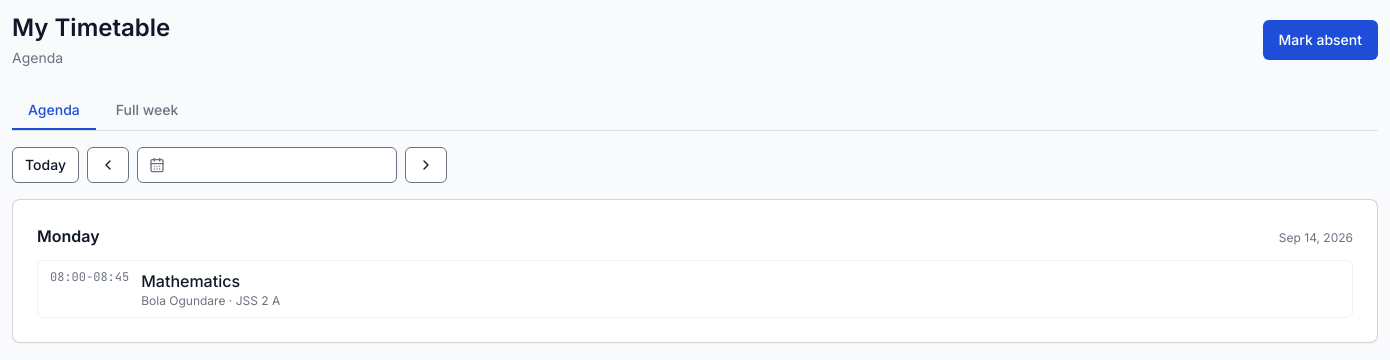
Test case: TeacherTimetablePage › Full week grid drops an all-free Saturday for the teacher, shows Mon-Fri with correct dates, no Sunday column
Expected: the text "Mathematics" is shown, x1=141 y1=271 x2=240 y2=291
Click the tab "Full week".
click(147, 111)  # box x1=100 y1=92 x2=194 y2=130
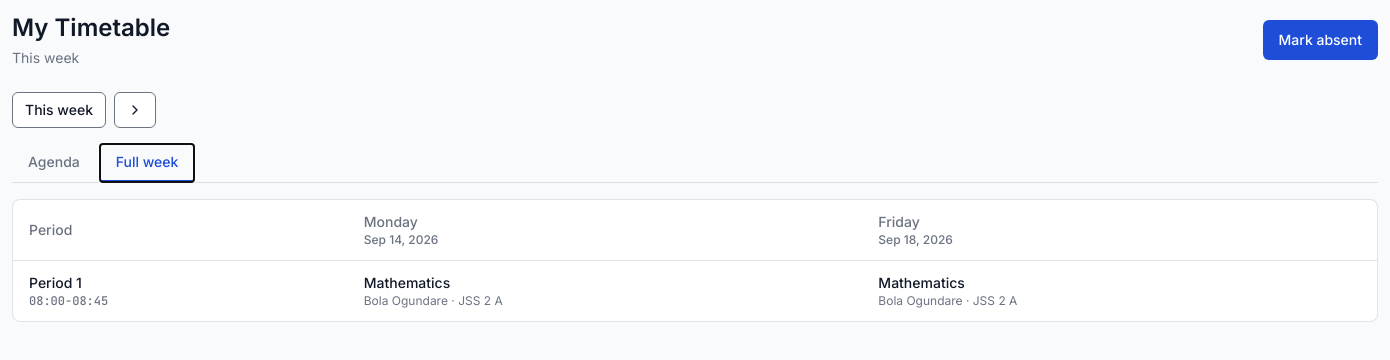
Expected: the table is shown, x1=13 y1=200 x2=1377 y2=321
Expected: the text "Friday" is shown, x1=878 y1=213 x2=920 y2=230
Expected: the text "Sep 18, 2026" is shown, x1=878 y1=232 x2=953 y2=247
